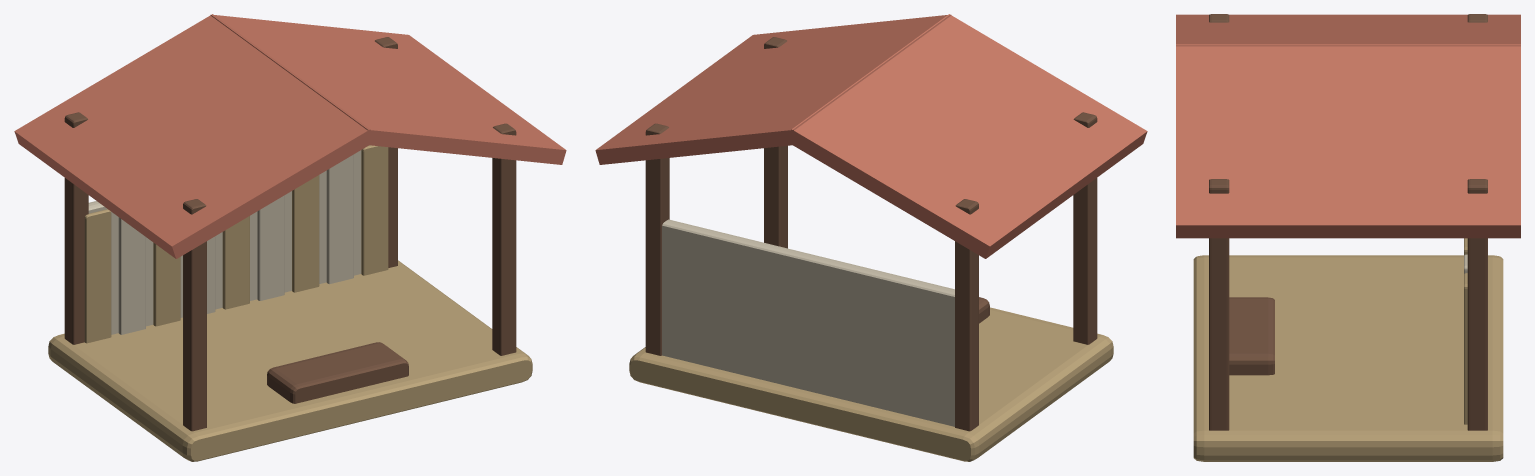
Rendered from farm-shelter.glb.
3 renders of one model, left to right at view 1: azimuth 30°, elevation 25°; view 2: azimuth 150°, elevation 25°; view 3: azimuth 270°, elevation 25°, orthographic. The views are drawn at different scales.
Parts seen in each view (by area): view 1: shell; view 2: shell; view 3: shell.
Part boxes in pixels (x1=…): shell: x1=14, y1=14, x2=566, y2=461; shell: x1=595, y1=14, x2=1147, y2=461; shell: x1=1176, y1=14, x2=1520, y2=461.
Size of the model in its own units: 3.7 by 2.69 by 2.56.
